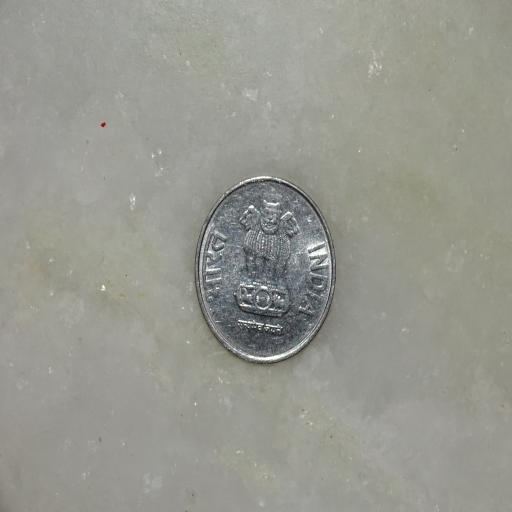rupee2: (190, 174, 337, 365)
